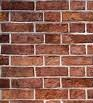brick: (1, 65, 34, 77), (61, 55, 93, 67), (35, 44, 69, 55), (1, 44, 34, 55), (10, 55, 43, 66), (35, 65, 68, 76), (10, 77, 43, 88), (1, 88, 34, 99), (11, 33, 43, 44), (61, 77, 93, 88), (34, 89, 69, 99), (62, 11, 93, 22), (10, 11, 43, 21), (62, 33, 93, 43), (1, 1, 34, 10), (1, 23, 34, 32), (35, 23, 68, 32), (36, 1, 69, 9), (43, 55, 60, 66), (69, 66, 86, 77), (45, 33, 61, 44), (70, 44, 86, 55), (44, 77, 60, 88), (69, 89, 86, 99), (70, 22, 85, 33), (44, 11, 60, 21), (71, 1, 85, 10)
